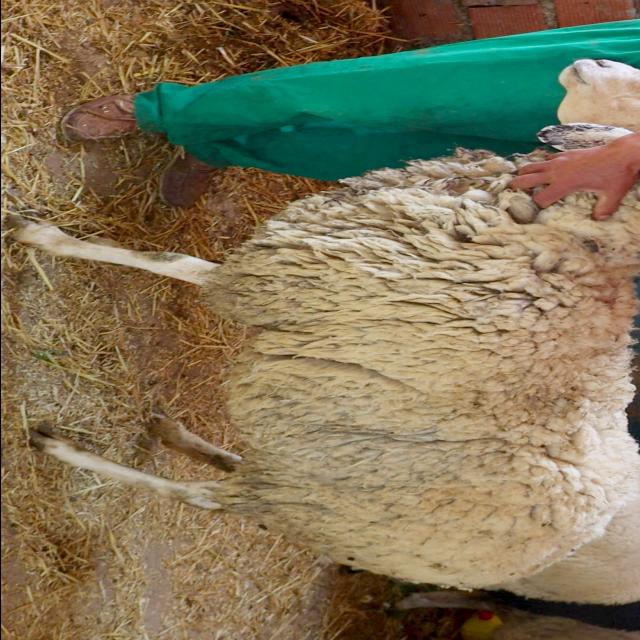Score_4: (8, 148, 640, 589)
